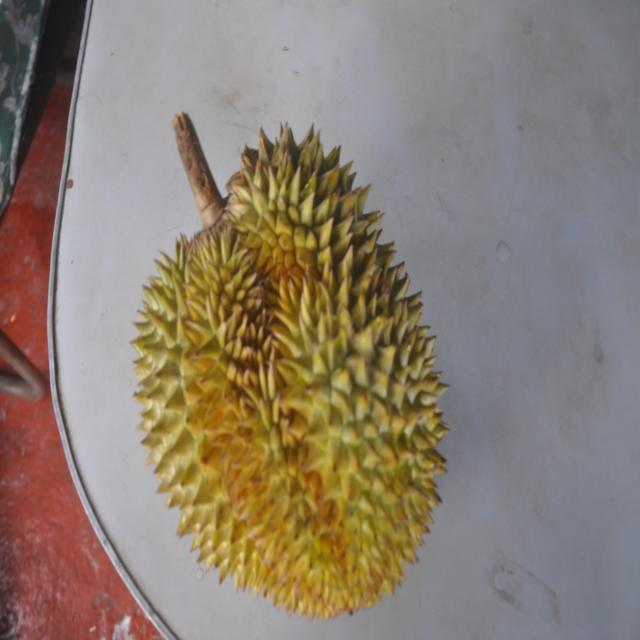mature: (128, 114, 444, 618)
